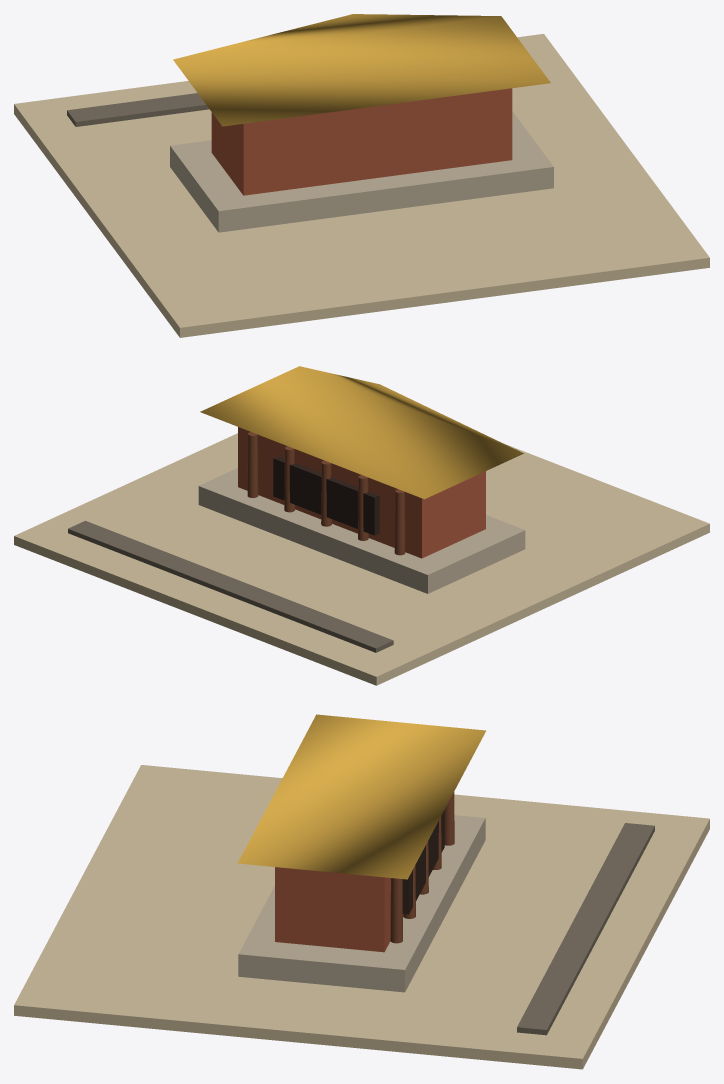
Rendered from model-medium.glb.
The picture shows the model from 3 angles, top to bottom: view 1: azimuth 30°, elevation 25°; view 2: azimuth 150°, elevation 25°; view 3: azimuth 270°, elevation 25°; orthographic projection. The views are drawn at different scales.
Parts seen in each view (by area): view 1: context_site_plinth, sweeping_tiled_roof, main_hall_wall_volume, raised_ceremonial_platform, front_scale_strip; view 2: context_site_plinth, sweeping_tiled_roof, raised_ceremonial_platform, main_hall_wall_volume, front_scale_strip, central_shadow_door, front_column_1, front_column_5, front_column_3, front_column_4, front_column_2; view 3: context_site_plinth, sweeping_tiled_roof, raised_ceremonial_platform, main_hall_wall_volume, front_scale_strip, central_shadow_door, front_column_5.
Boxes of the visible parts, x1,y1,x2,y2 form: context_site_plinth: (14, 34, 709, 337); sweeping_tiled_roof: (173, 14, 550, 126); main_hall_wall_volume: (211, 88, 512, 195); raised_ceremonial_platform: (170, 111, 553, 232); front_scale_strip: (67, 93, 209, 126); context_site_plinth: (14, 433, 709, 685); sweeping_tiled_roof: (200, 366, 523, 499); raised_ceremonial_platform: (198, 468, 525, 593); main_hall_wall_volume: (238, 427, 485, 558); front_scale_strip: (68, 520, 393, 652); central_shadow_door: (273, 456, 379, 535); front_column_1: (394, 489, 405, 555); front_column_5: (247, 432, 258, 497); front_column_3: (321, 460, 331, 526); front_column_4: (284, 446, 294, 512); front_column_2: (358, 475, 368, 540); context_site_plinth: (14, 765, 709, 1069); sweeping_tiled_roof: (237, 714, 485, 879); raised_ceremonial_platform: (238, 815, 485, 992); main_hall_wall_volume: (275, 867, 403, 952); front_scale_strip: (517, 823, 654, 1035); central_shadow_door: (402, 810, 444, 914); front_column_5: (390, 878, 402, 943).
Size of the model in its own units: 9.55 by 2.62 by 9.55.
